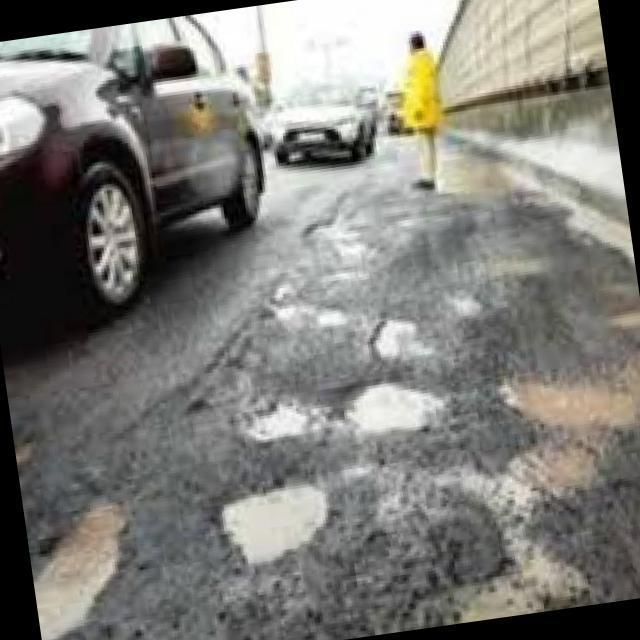Pothole: (34, 508, 124, 640), (512, 363, 640, 434), (221, 488, 326, 567), (345, 385, 443, 434), (460, 581, 569, 623)
